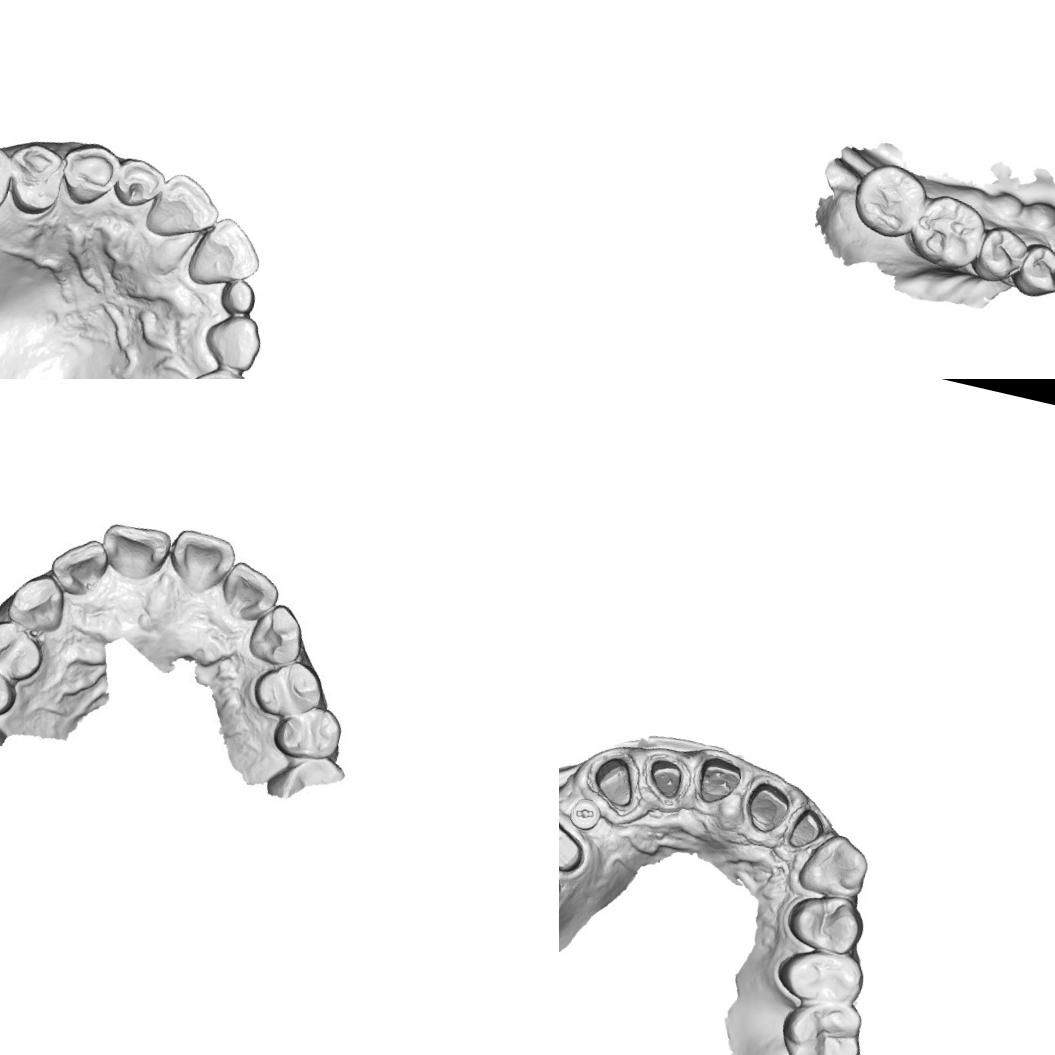canine: (792, 826, 876, 906), (54, 137, 125, 212), (4, 572, 77, 644), (197, 308, 265, 376), (244, 598, 312, 666)
crown: (738, 769, 798, 843), (585, 745, 647, 812), (636, 744, 698, 811), (687, 747, 747, 815), (778, 796, 837, 861), (559, 809, 594, 879)
implant_minus: (564, 792, 608, 836)
incisor: (184, 210, 269, 297), (142, 167, 226, 247), (96, 518, 178, 590), (162, 522, 239, 596), (217, 558, 286, 625), (46, 534, 113, 600), (110, 150, 170, 215), (215, 274, 261, 318)
molar: (903, 188, 991, 276), (846, 156, 932, 244), (772, 989, 872, 1055)
premolar: (770, 939, 870, 1014), (264, 693, 354, 772), (781, 884, 870, 960), (1, 136, 70, 219), (253, 654, 334, 724), (971, 222, 1033, 288), (0, 614, 49, 688), (1007, 237, 1055, 303), (0, 652, 23, 725), (0, 137, 19, 223), (180, 363, 252, 379)
